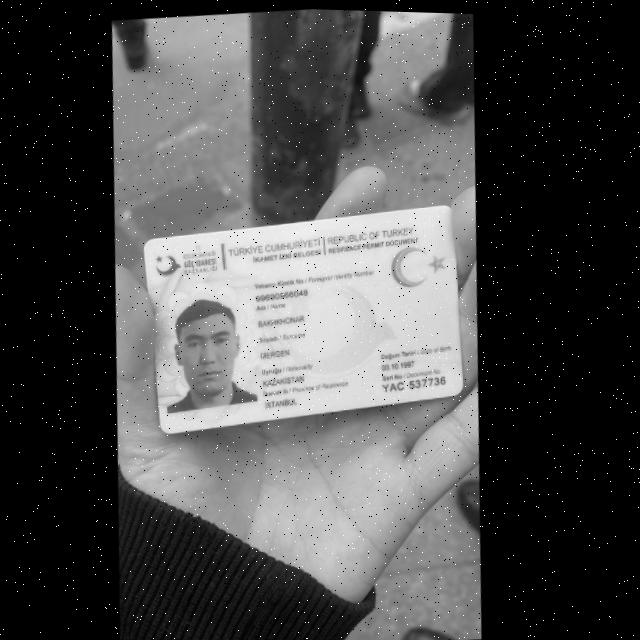card: (145, 206, 462, 432)
